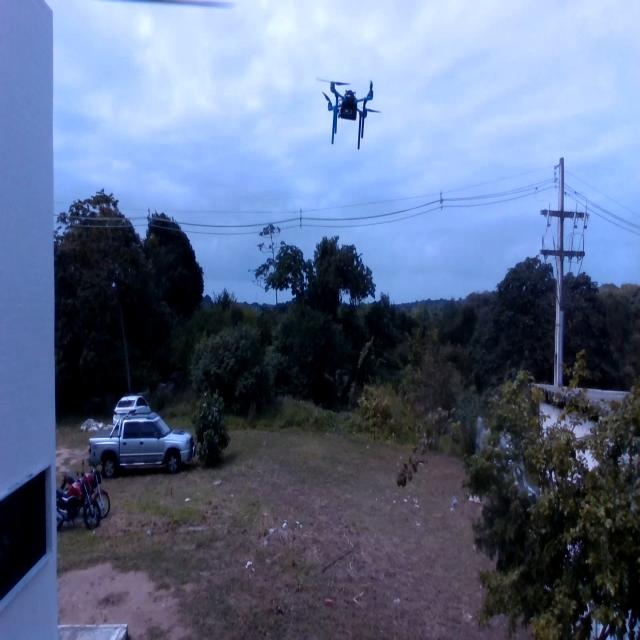-uav-: (314, 50, 382, 164)
